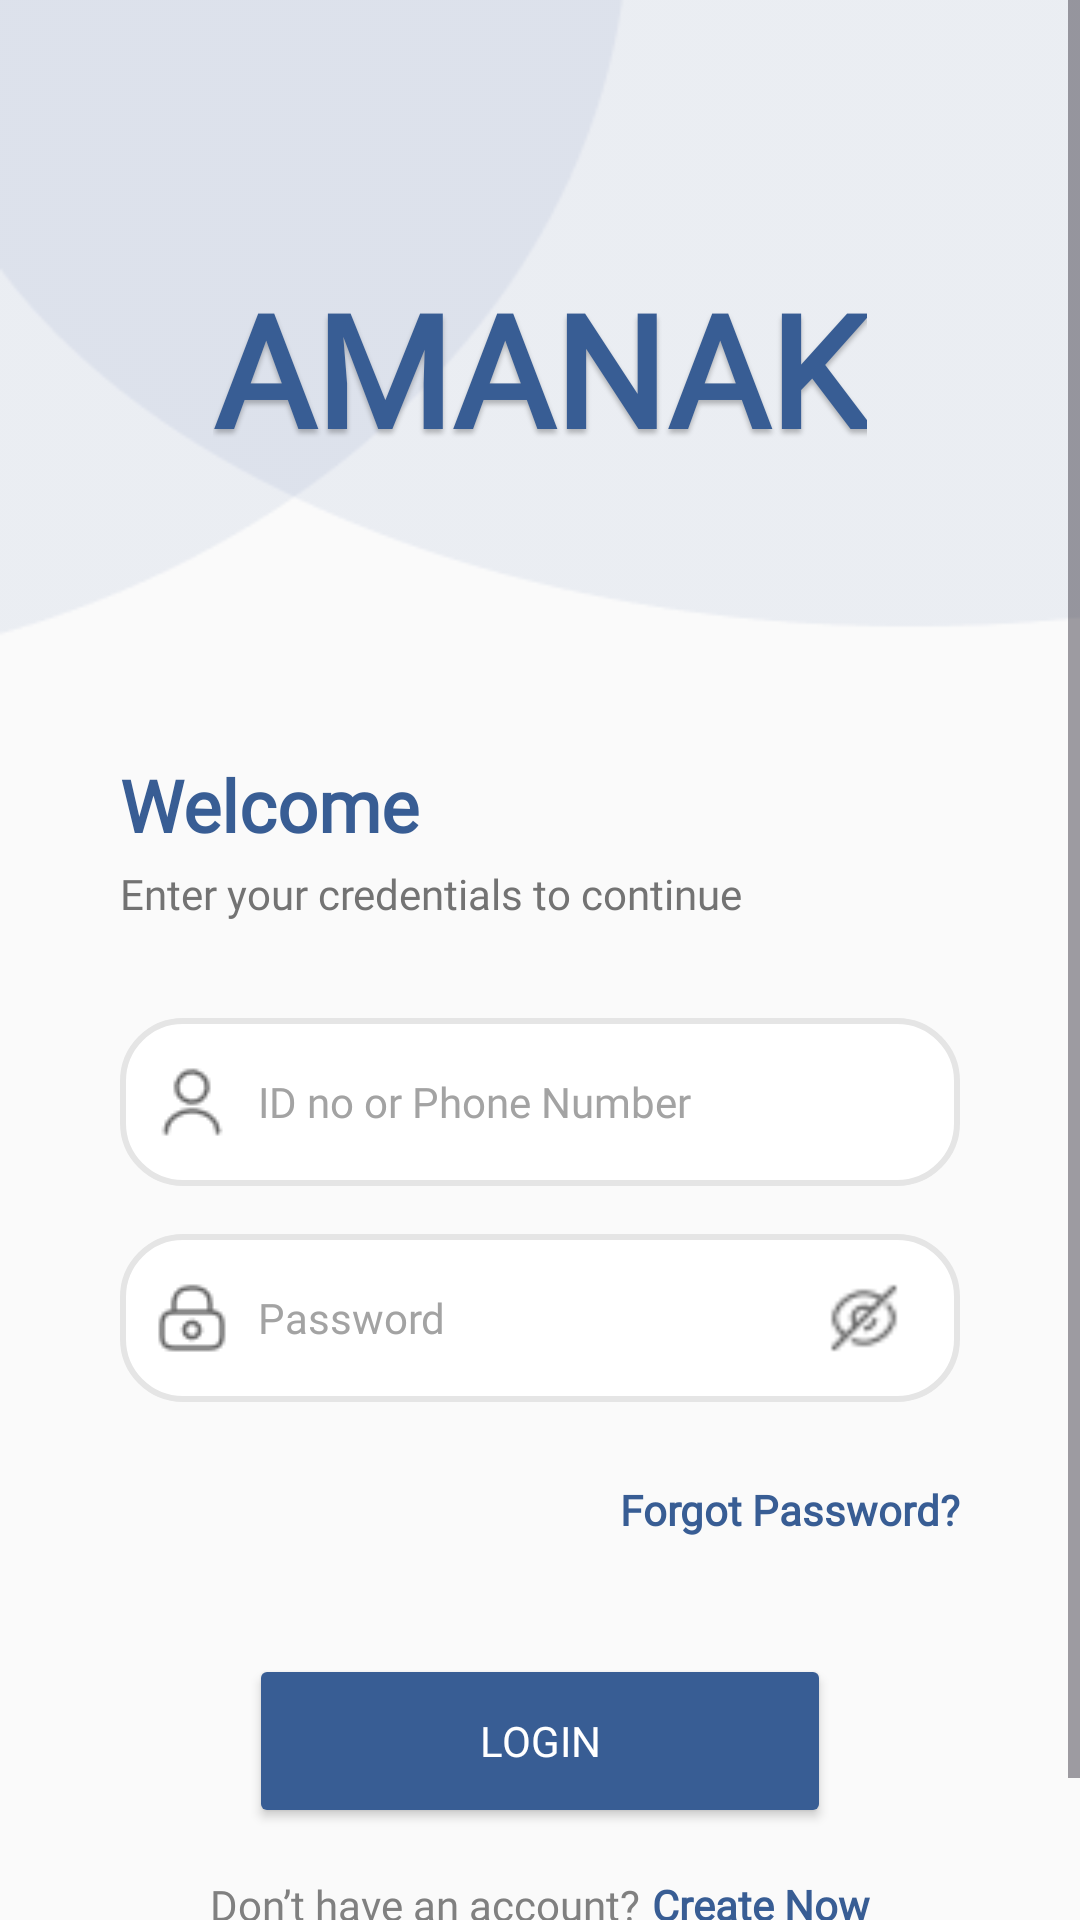

Screen size 1080 x 1920. Icon name, then its center in pixels as point (x, y):
eye: point (864, 1318)
